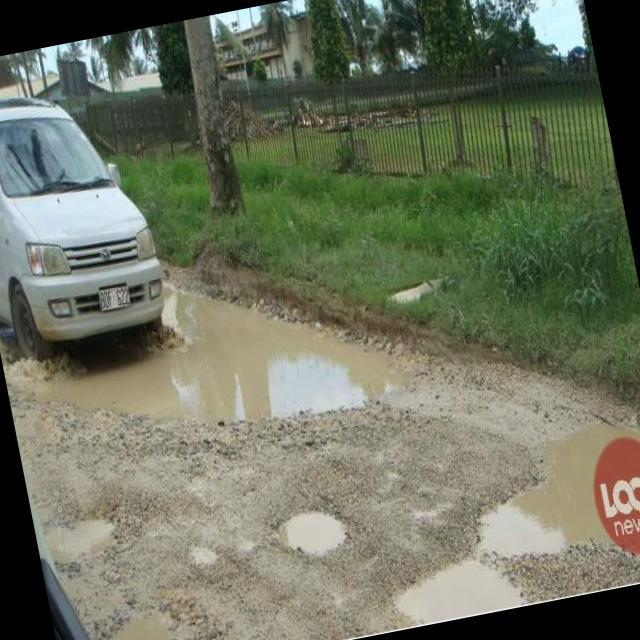Pothole: (461, 401, 640, 566), (388, 537, 514, 630), (35, 496, 128, 570), (266, 491, 352, 566), (104, 598, 197, 640)
